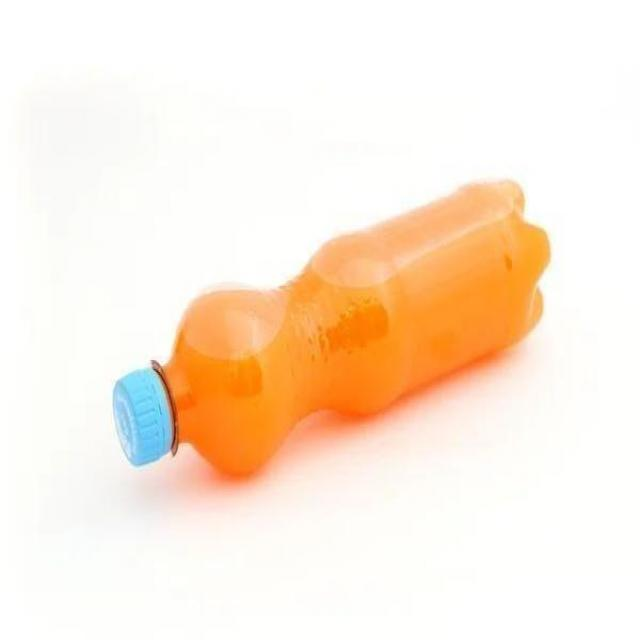bottle-plastic: (107, 169, 552, 505)
